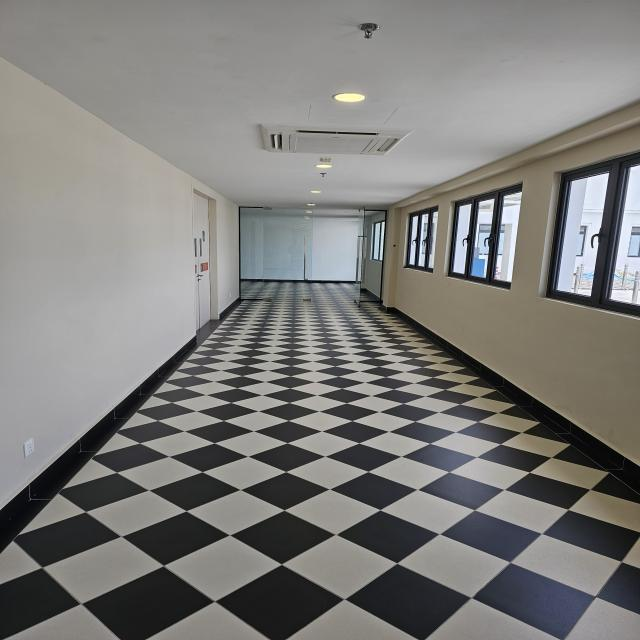footpath: (133, 396, 521, 638), (235, 310, 392, 390)
